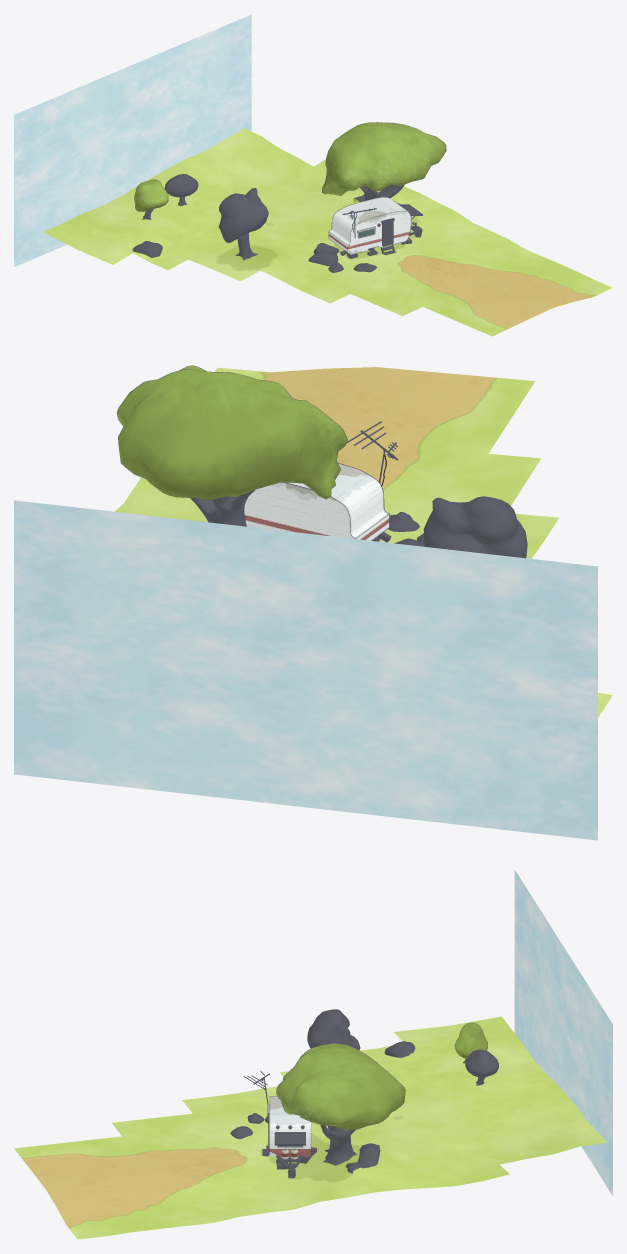
The model's file is environment.glb.
3 renders of one model, top to bottom at view 1: azimuth 30°, elevation 25°; view 2: azimuth 150°, elevation 25°; view 3: azimuth 270°, elevation 25°, orthographic. The views are drawn at different scales.
Parts seen in each view (by area): view 1: Ground, SkyPlane1, MainLeaves, RV, SecondaryLeaves_Outline, Shrubs_Outline, BackgroundLeaves1, BackgroundLeaves2_Outline; view 2: SkyPlane1, Ground, MainLeaves, RV, SecondaryLeaves_Outline, MainTree_Outline, Shrubs_Outline; view 3: Ground, SkyPlane1, MainLeaves, RV, SecondaryLeaves_Outline, Shrubs_Outline, MainTree_Outline, BackgroundLeaves1, BackgroundLeaves2_Outline.
Boxes of the visible parts, bbox=[...] form: Ground: bbox=[43, 128, 612, 336]; SkyPlane1: bbox=[14, 14, 251, 266]; MainLeaves: bbox=[322, 122, 446, 195]; RV: bbox=[329, 197, 411, 254]; SecondaryLeaves_Outline: bbox=[218, 188, 268, 242]; Shrubs_Outline: bbox=[132, 194, 399, 272]; BackgroundLeaves1: bbox=[134, 179, 168, 211]; BackgroundLeaves2_Outline: bbox=[164, 174, 198, 197]; SkyPlane1: bbox=[14, 500, 597, 840]; Ground: bbox=[115, 367, 612, 717]; MainLeaves: bbox=[117, 365, 347, 499]; RV: bbox=[244, 463, 389, 540]; SecondaryLeaves_Outline: bbox=[423, 496, 527, 558]; MainTree_Outline: bbox=[190, 490, 254, 526]; Shrubs_Outline: bbox=[388, 512, 424, 546]; Ground: bbox=[14, 1016, 607, 1239]; SkyPlane1: bbox=[514, 870, 612, 1195]; MainLeaves: bbox=[276, 1043, 405, 1130]; RV: bbox=[269, 1096, 311, 1156]; SecondaryLeaves_Outline: bbox=[307, 1009, 360, 1050]; Shrubs_Outline: bbox=[230, 1041, 415, 1173]; MainTree_Outline: bbox=[320, 1125, 357, 1165]; BackgroundLeaves1: bbox=[455, 1023, 487, 1058]; BackgroundLeaves2_Outline: bbox=[465, 1049, 498, 1077].
Size of the model in its own units: 2.81 by 1.01 by 3.19.
5 materials, 3 textured.
